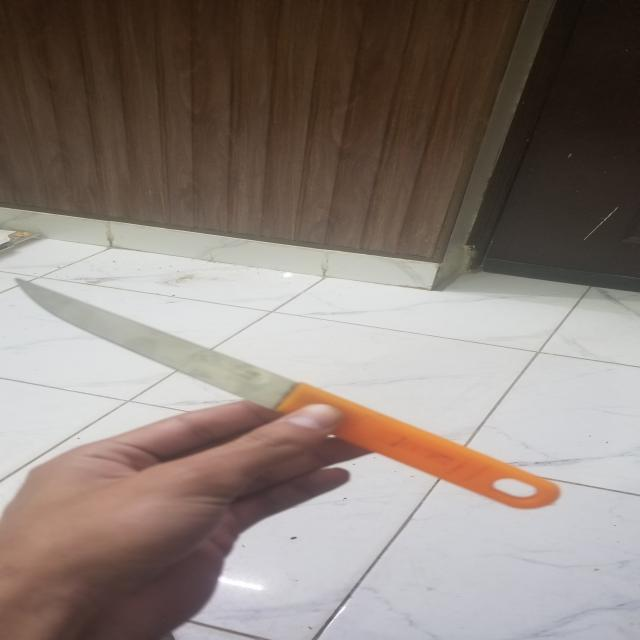knife: (13, 258, 596, 556)
